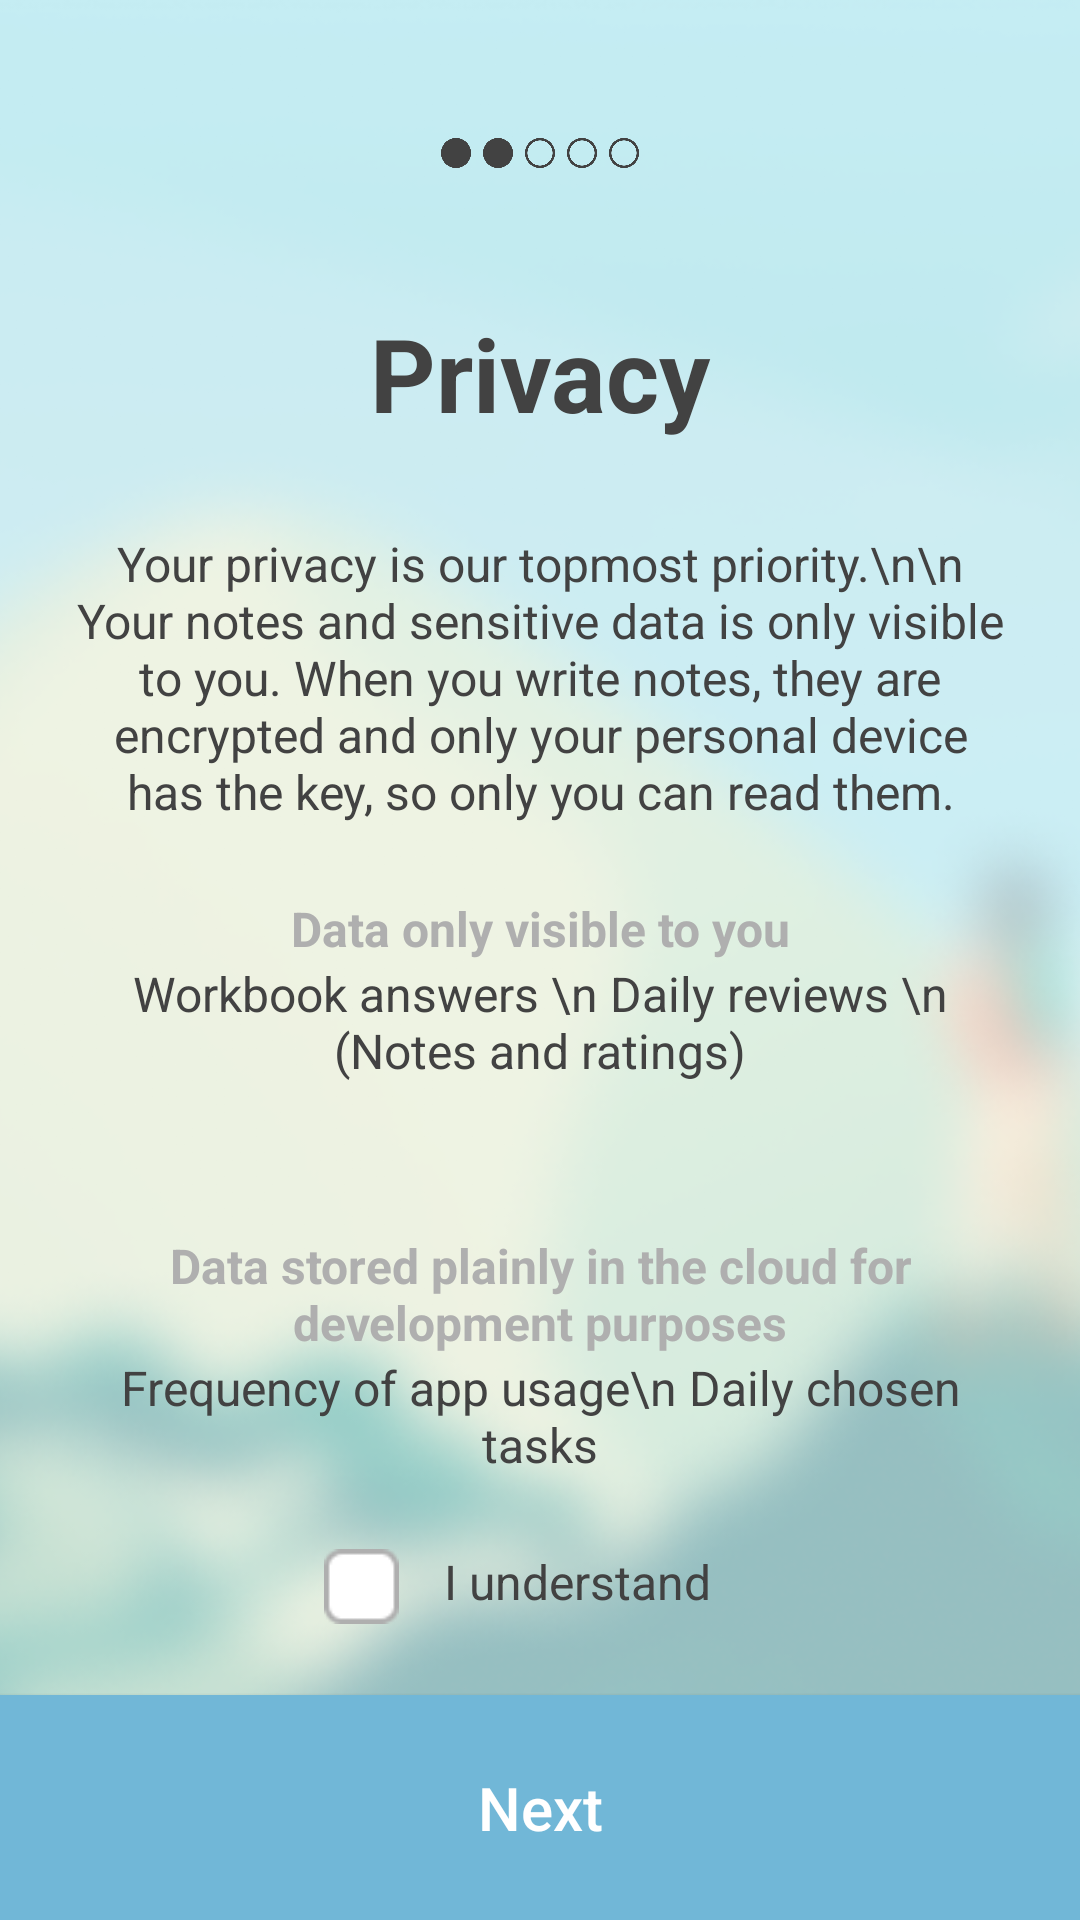

Locate icon controls on the screen. Image size 1080 × 1920, boxes as {"x1": x1, "y1": y1, "x2": x2, "y2": y2}.
dot: {"x1": 441, "y1": 138, "x2": 471, "y2": 168}, {"x1": 483, "y1": 138, "x2": 513, "y2": 168}
unchecked box: {"x1": 324, "y1": 1549, "x2": 399, "y2": 1624}
unfilled dot: {"x1": 525, "y1": 138, "x2": 555, "y2": 168}, {"x1": 567, "y1": 138, "x2": 597, "y2": 168}, {"x1": 609, "y1": 138, "x2": 639, "y2": 168}
